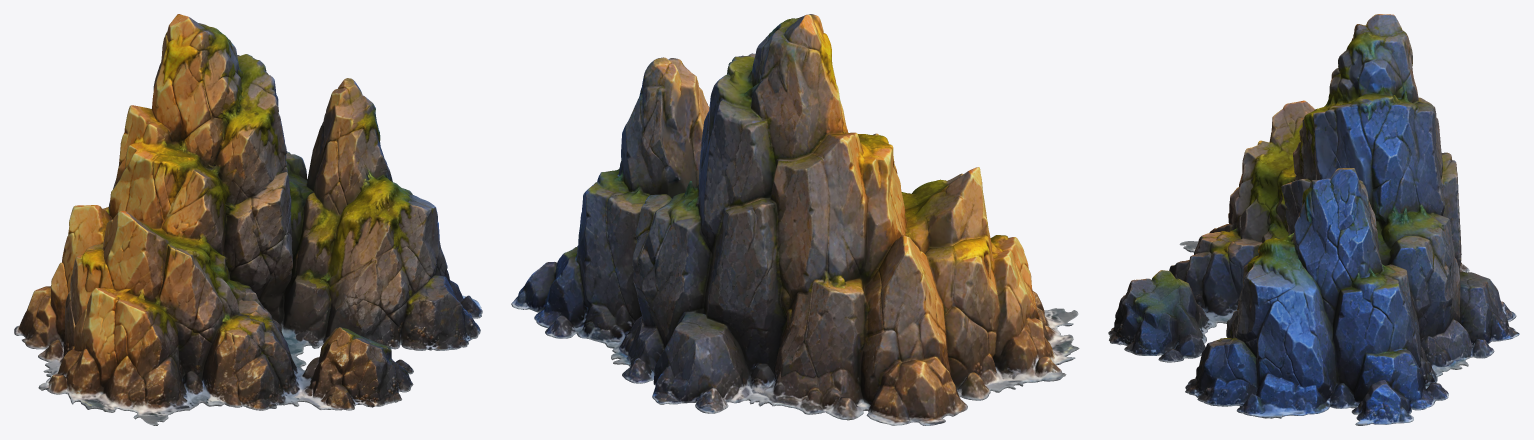
Rendered from kaya_engel_sivri.glb.
3 views of the same model, side by side, from view 1: azimuth 30°, elevation 25°; view 2: azimuth 150°, elevation 25°; view 3: azimuth 270°, elevation 25° (orthographic). The views are drawn at different scales.
Visible parts, largest first — view 1: tripo_node_69abe994-7e09-47dd-846a-4be11a23a770; view 2: tripo_node_69abe994-7e09-47dd-846a-4be11a23a770; view 3: tripo_node_69abe994-7e09-47dd-846a-4be11a23a770.
Part boxes in pixels (<box>): tripo_node_69abe994-7e09-47dd-846a-4be11a23a770: <box>14,14,482,425</box>; tripo_node_69abe994-7e09-47dd-846a-4be11a23a770: <box>511,14,1079,425</box>; tripo_node_69abe994-7e09-47dd-846a-4be11a23a770: <box>1108,14,1519,425</box>.
Bounding box in the file's own units: 0.979 × 0.6482 × 0.8211.
Materials: 1 (1 with a texture image).
